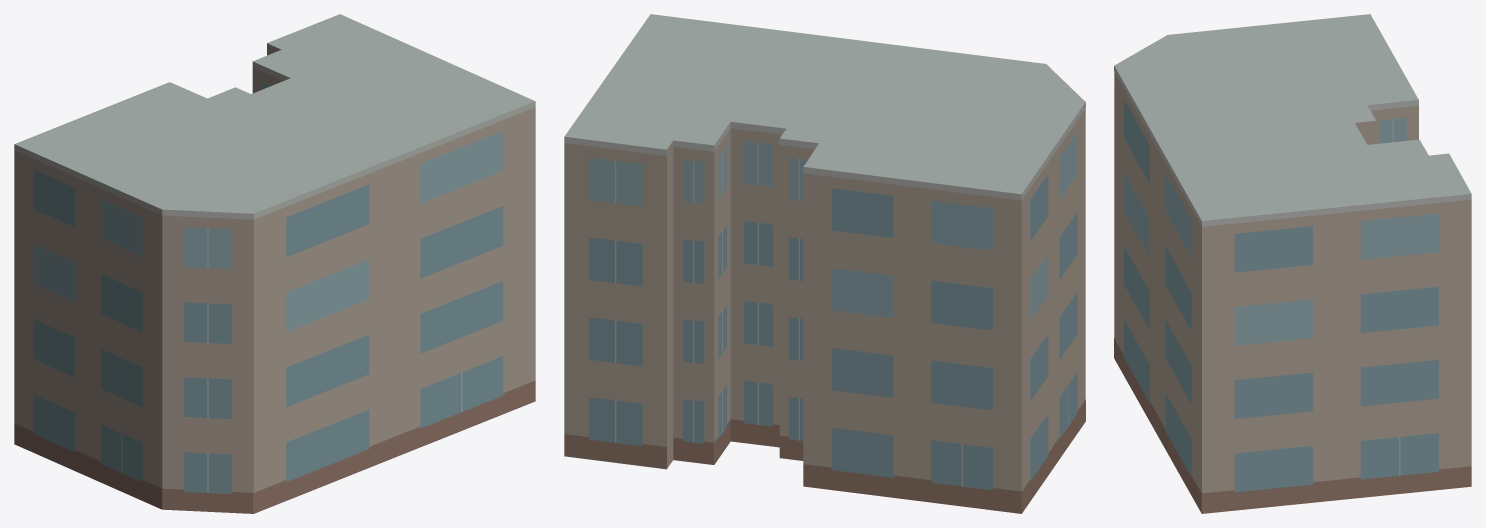
Rendered from survey-upis-32815102.glb.
3 renders of one model, left to right at view 1: azimuth 30°, elevation 25°; view 2: azimuth 150°, elevation 25°; view 3: azimuth 270°, elevation 25°, orthographic. The views are drawn at different scales.
Visible parts, largest first — view 1: survey-upis-32815102.tmp; view 2: survey-upis-32815102.tmp; view 3: survey-upis-32815102.tmp.
Boxes of the visible parts, x1,y1,x2,y2 form: survey-upis-32815102.tmp: [14, 14, 535, 513]; survey-upis-32815102.tmp: [564, 14, 1085, 513]; survey-upis-32815102.tmp: [1114, 14, 1471, 513].
Size of the model in its own units: 18.66 by 12.3 by 13.62.
